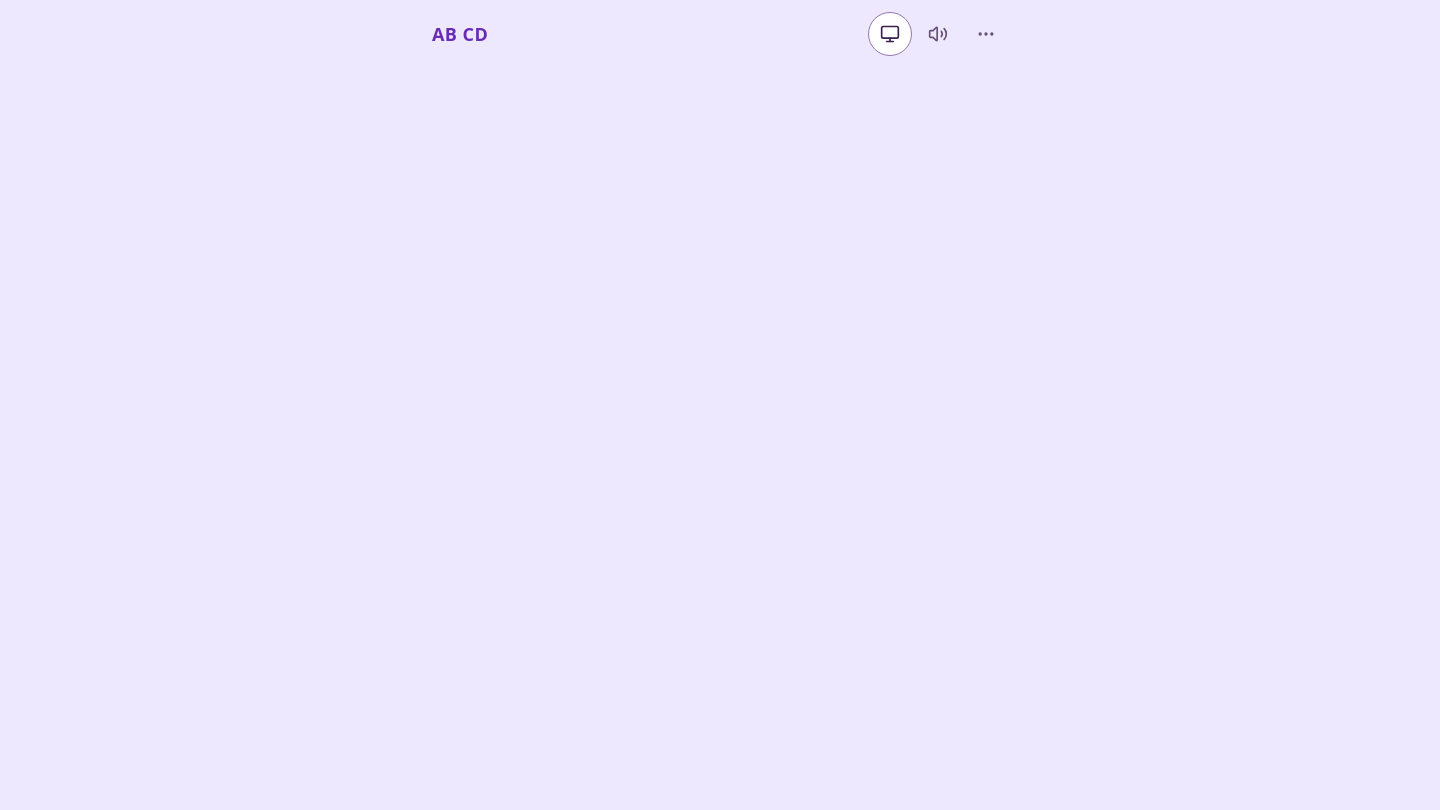
it: room options › requires confirmation and lets the host cancel ending a game
The image size is (1440, 810).
Expected: the button "End game" is not shown
Click the button named "Room options" at (986,34), box x1=964 y1=12 x2=1008 y2=56
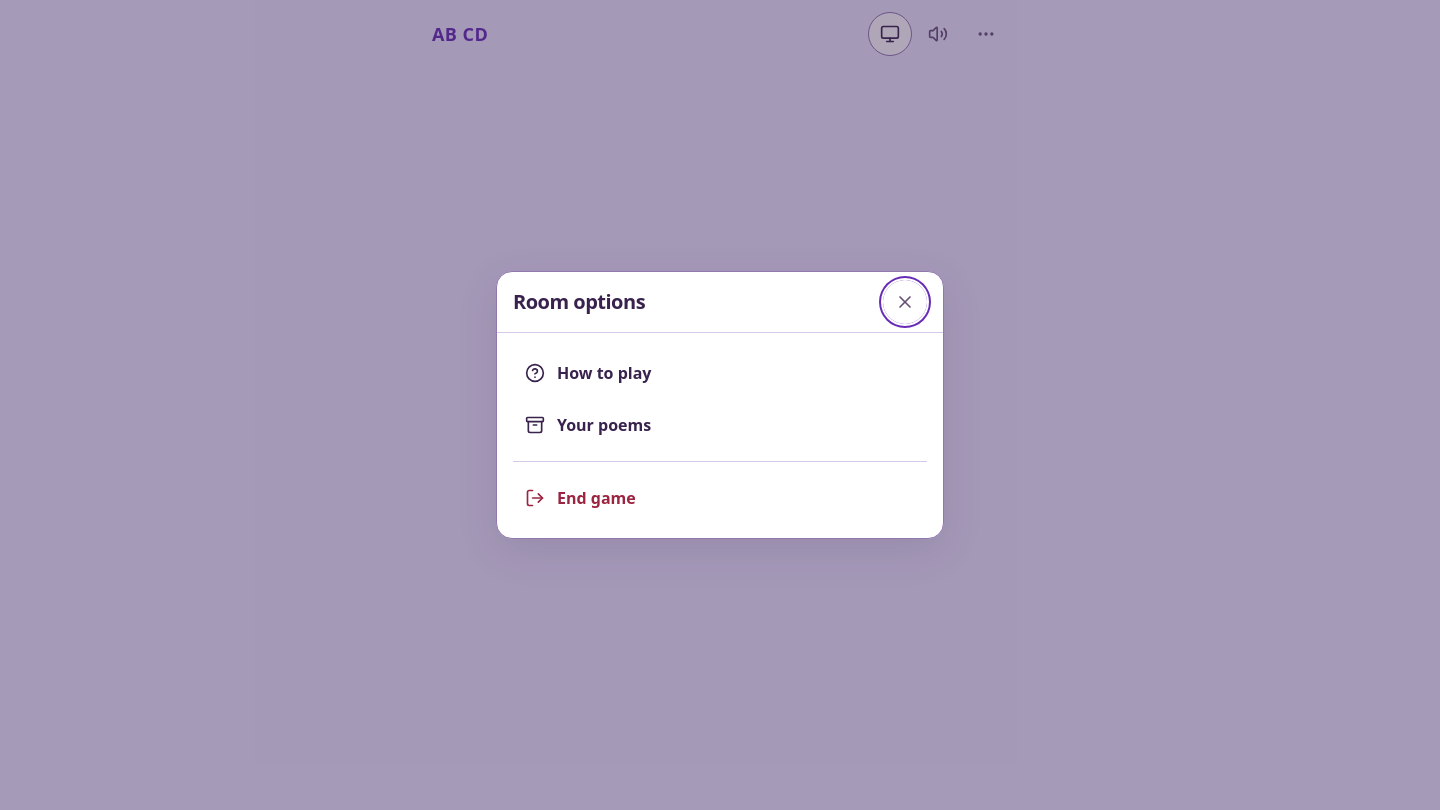
Click the button "End game" at (596,498), box x1=513 y1=474 x2=927 y2=522
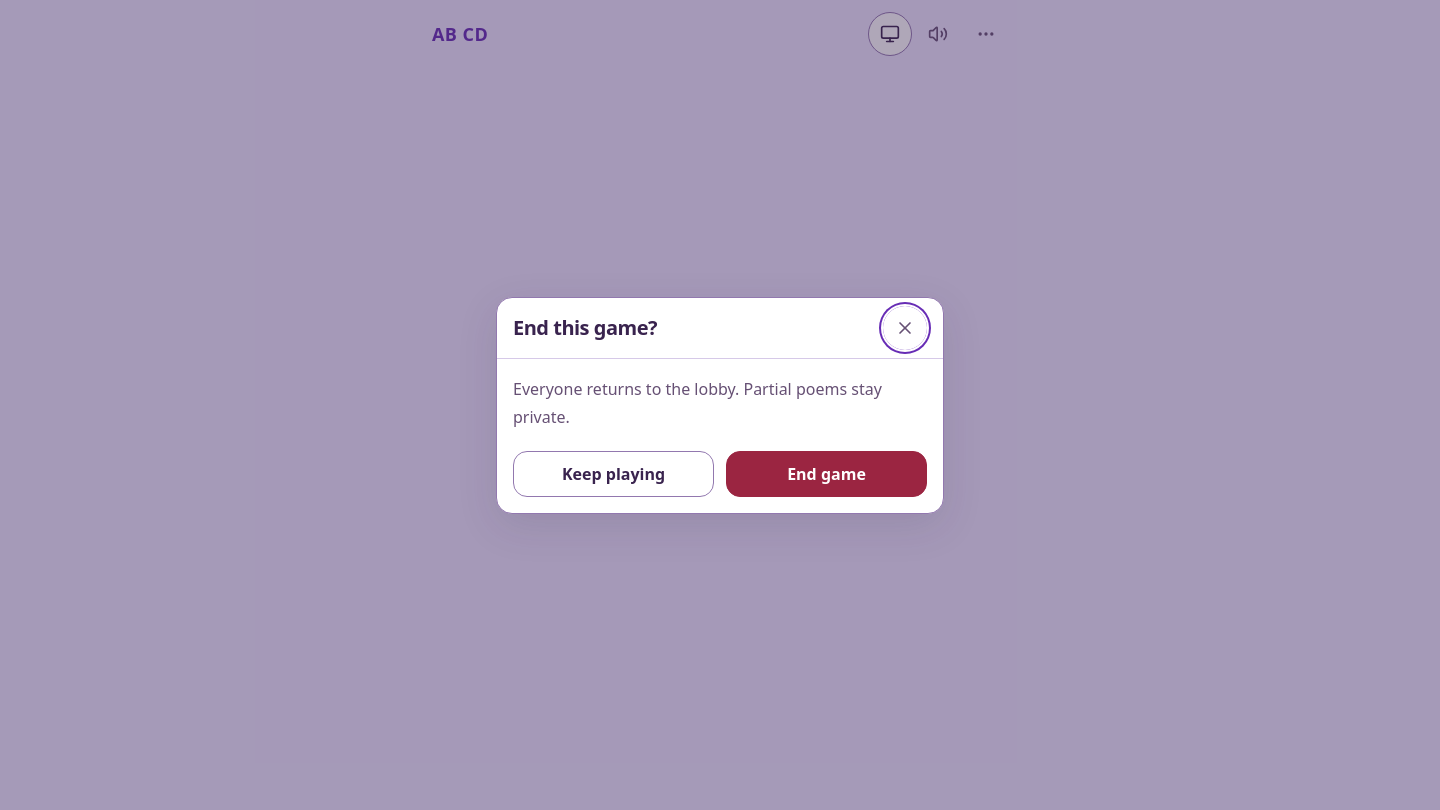
Result: the dialog "End this game?" is shown at x1=496 y1=296 x2=944 y2=514
Click the button "Keep playing" at (614,474), box x1=513 y1=450 x2=714 y2=496
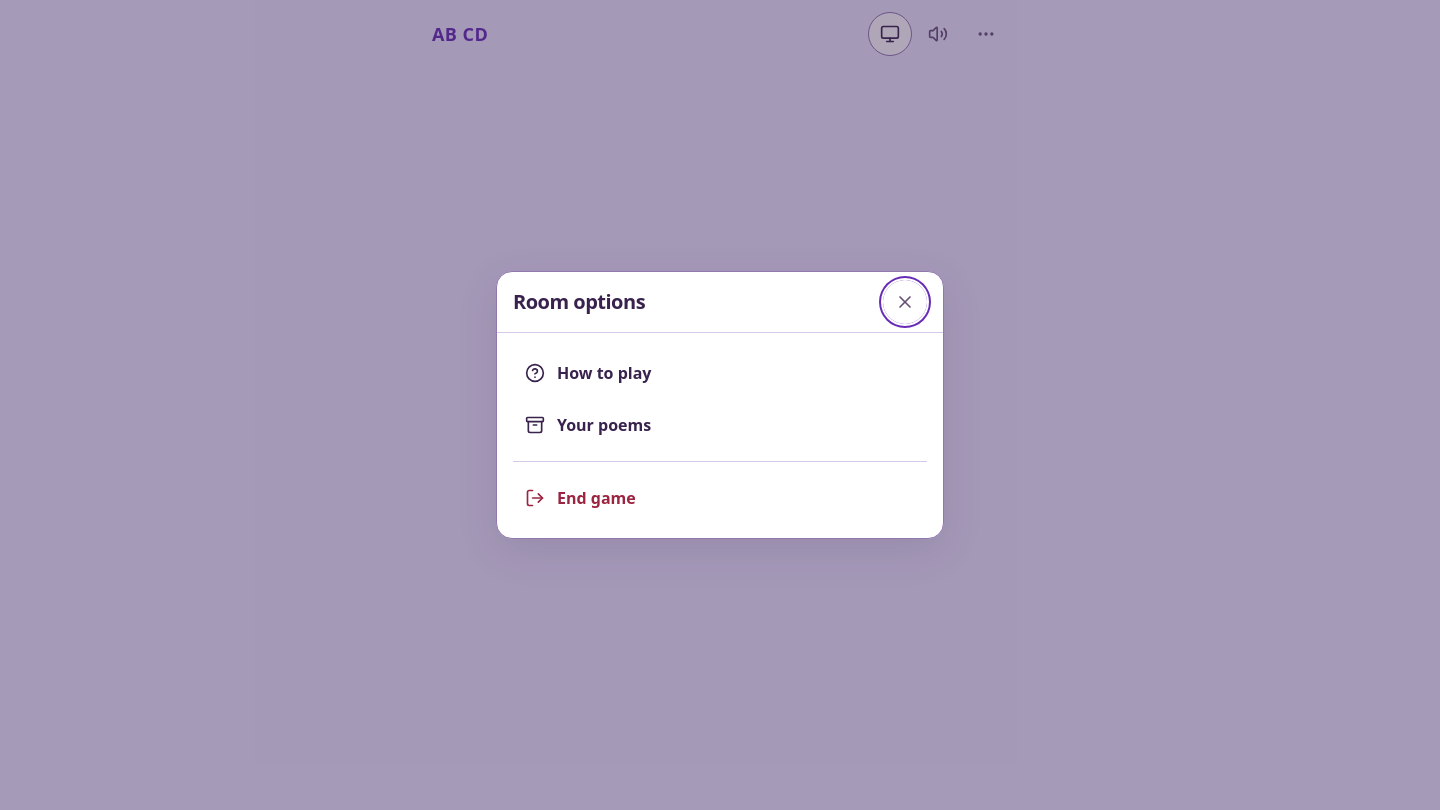
Result: the dialog "Room options" is shown at x1=496 y1=271 x2=944 y2=539
